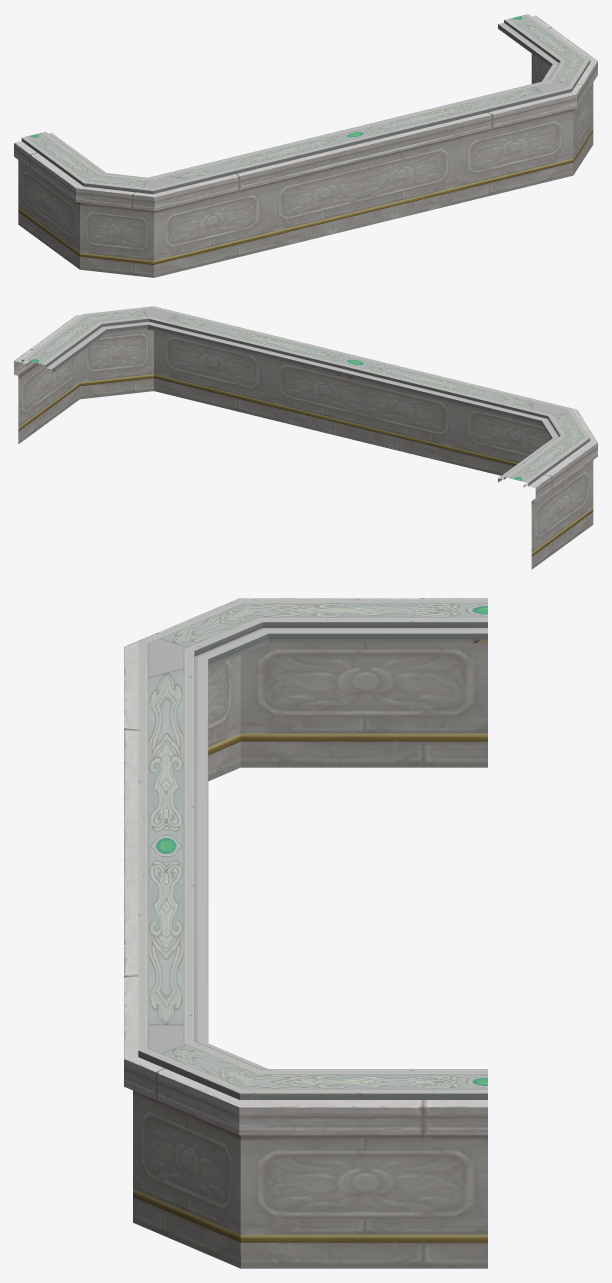
The model's file is W3_HD_GongHuiBoss_baobian_04_03_D.FBX.
3 views of the same model, one above another, from view 1: azimuth 30°, elevation 25°; view 2: azimuth 150°, elevation 25°; view 3: azimuth 270°, elevation 25° (orthographic). The views are drawn at different scales.
Parts seen in each view (by area): view 1: W3_HD_GongHuiBoss_baobian_04_03_D; view 2: W3_HD_GongHuiBoss_baobian_04_03_D; view 3: W3_HD_GongHuiBoss_baobian_04_03_D.
Boxes of the visible parts, x1,y1,x2,y2 form: W3_HD_GongHuiBoss_baobian_04_03_D: [14, 14, 597, 277]; W3_HD_GongHuiBoss_baobian_04_03_D: [14, 306, 597, 569]; W3_HD_GongHuiBoss_baobian_04_03_D: [124, 598, 487, 1268].
Bounding box in the file's own units: 23.73 × 3.74 × 7.17.
